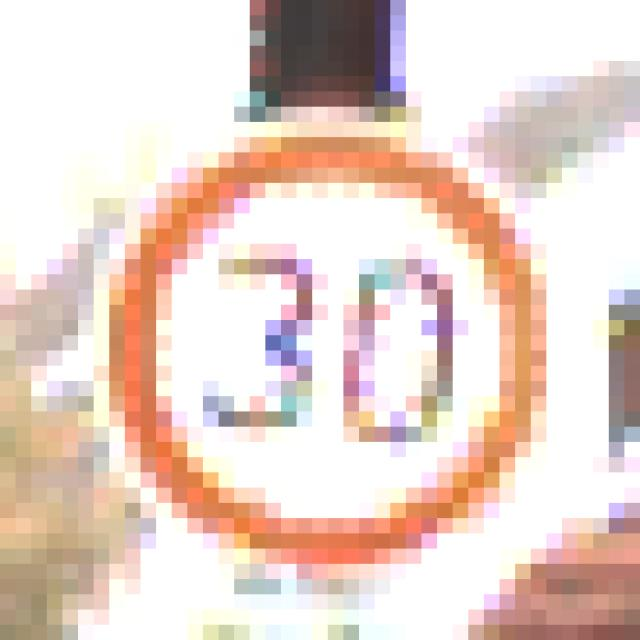Speed Limit -30-: (70, 84, 539, 541)
